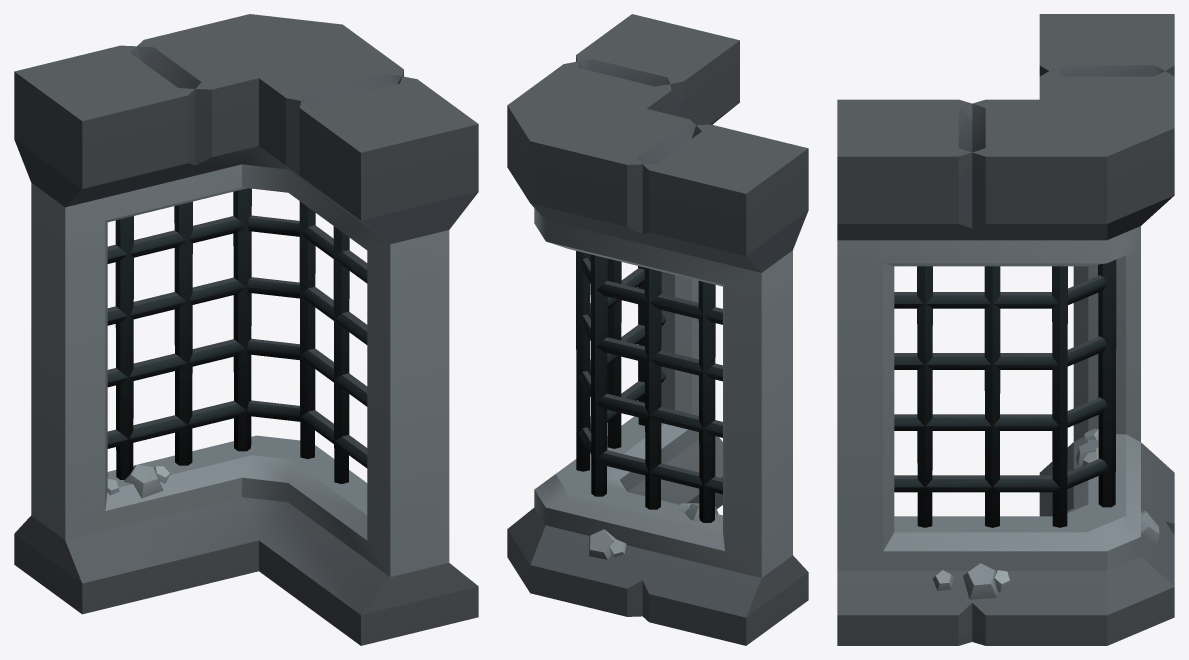
File: kaykit-dungeon-remastered-wall-corner-gated-gltf.glb
The picture shows the model from 3 angles, left to right: view 1: azimuth 30°, elevation 25°; view 2: azimuth 150°, elevation 25°; view 3: azimuth 270°, elevation 25°; orthographic projection. The views are drawn at different scales.
Visible parts, largest first — view 1: wall_corner_gated; view 2: wall_corner_gated; view 3: wall_corner_gated.
Part boxes in pixels (bbox=[...]): wall_corner_gated: bbox=[14, 14, 478, 645]; wall_corner_gated: bbox=[507, 14, 808, 645]; wall_corner_gated: bbox=[837, 14, 1174, 645].
Bounding box in the file's own units: 2.5 × 4 × 2.5.
1 material, 1 textured.
